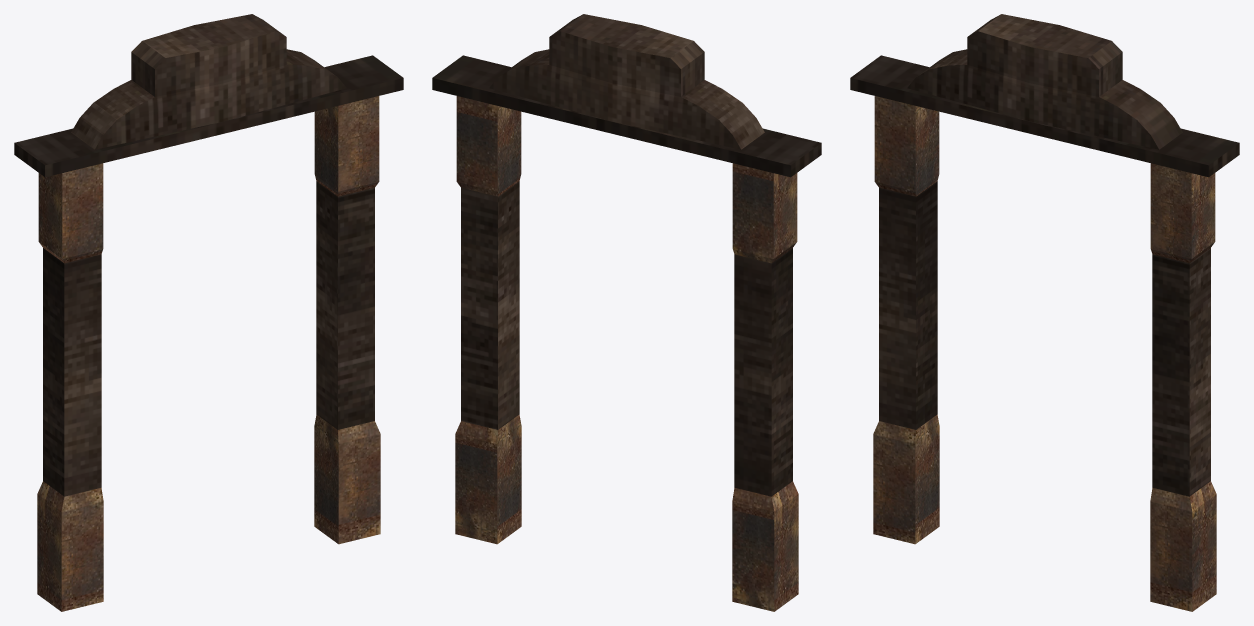
The model's file is Marco puerta.fbx.
The picture shows the model from 3 angles, left to right: view 1: azimuth 30°, elevation 25°; view 2: azimuth 150°, elevation 25°; view 3: azimuth 330°, elevation 25°; orthographic projection.
Visible parts, largest first — view 1: pCube4; view 2: pCube4; view 3: pCube4.
Boxes of the visible parts, x1=… form: pCube4: x1=14, y1=14, x2=403, y2=611; pCube4: x1=432, y1=14, x2=821, y2=611; pCube4: x1=850, y1=14, x2=1239, y2=611.
Bounding box in the file's own units: 233 × 328 × 34.68.
